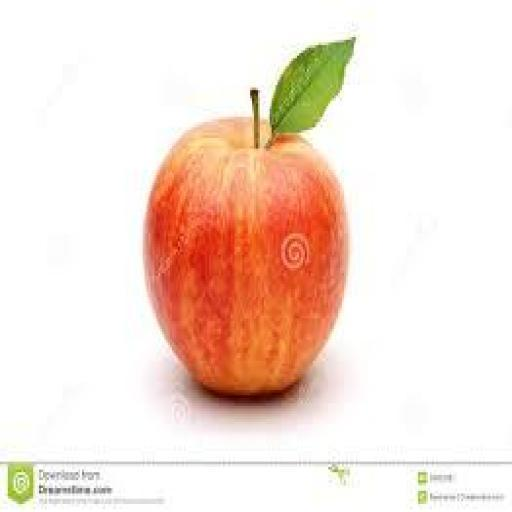apple: (145, 104, 347, 395)
